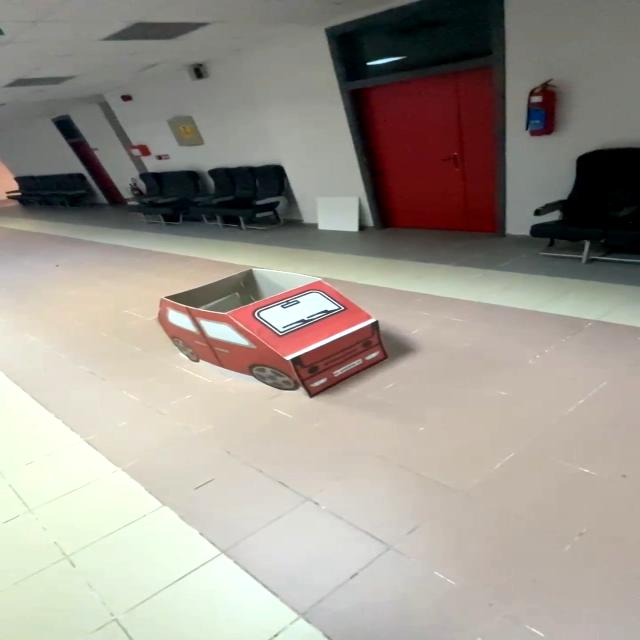red_car: (139, 258, 405, 417)
